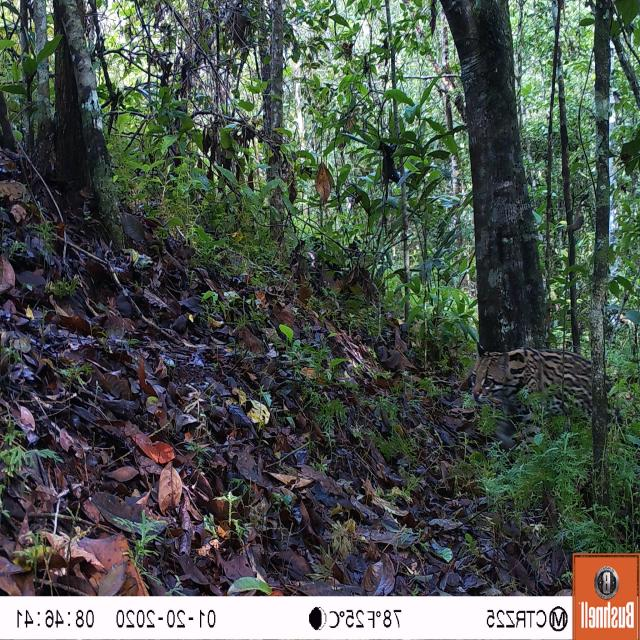Ocelote: (463, 335, 620, 455)
